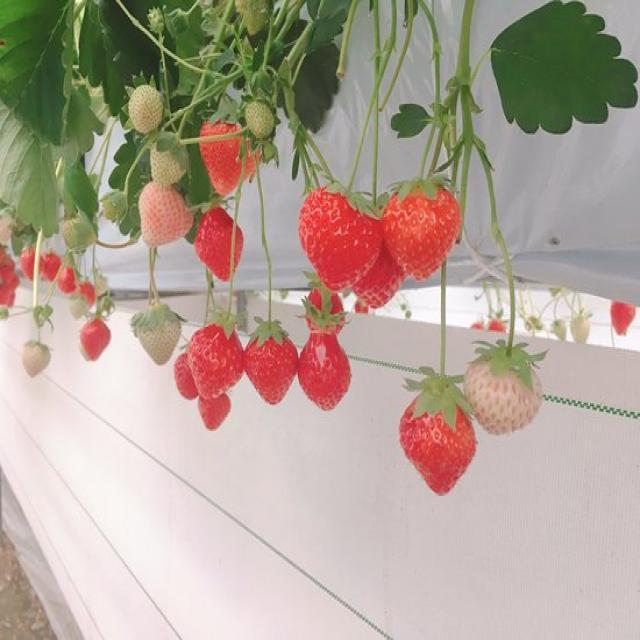ripe: (298, 186, 376, 298), (401, 388, 479, 500), (386, 192, 461, 282), (297, 317, 350, 417), (182, 324, 245, 404), (198, 115, 256, 199), (246, 320, 298, 408), (196, 207, 247, 292), (301, 288, 348, 336), (82, 318, 118, 367), (196, 394, 236, 436), (172, 357, 202, 405), (20, 243, 48, 286), (612, 296, 638, 340), (45, 246, 61, 290), (58, 262, 76, 300)
unripe: (468, 346, 545, 440), (138, 180, 195, 248), (132, 308, 182, 366), (146, 121, 188, 187), (243, 95, 279, 144), (128, 86, 162, 135), (562, 297, 590, 350), (19, 340, 51, 380), (241, 2, 273, 40), (546, 305, 570, 350)
